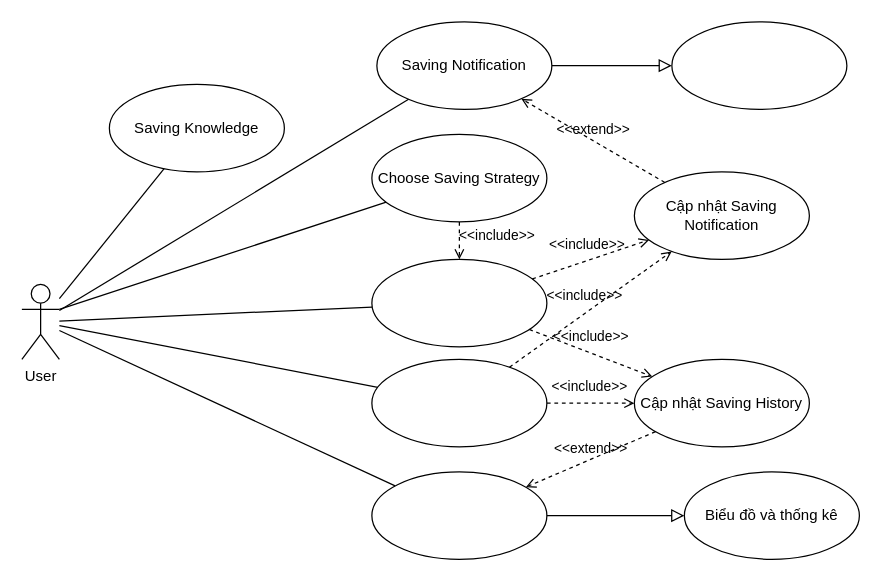
This 881x581 diagram has some shape labels left out. Here are the shapes that lost their labels. From the top down, the centre of each, then its label:
At (759,65): "Notification Management".
At (459,302): "Thêm Saving Account".
At (459,402): "Thêm Saving Transaction".
At (459,515): "Saving History".
